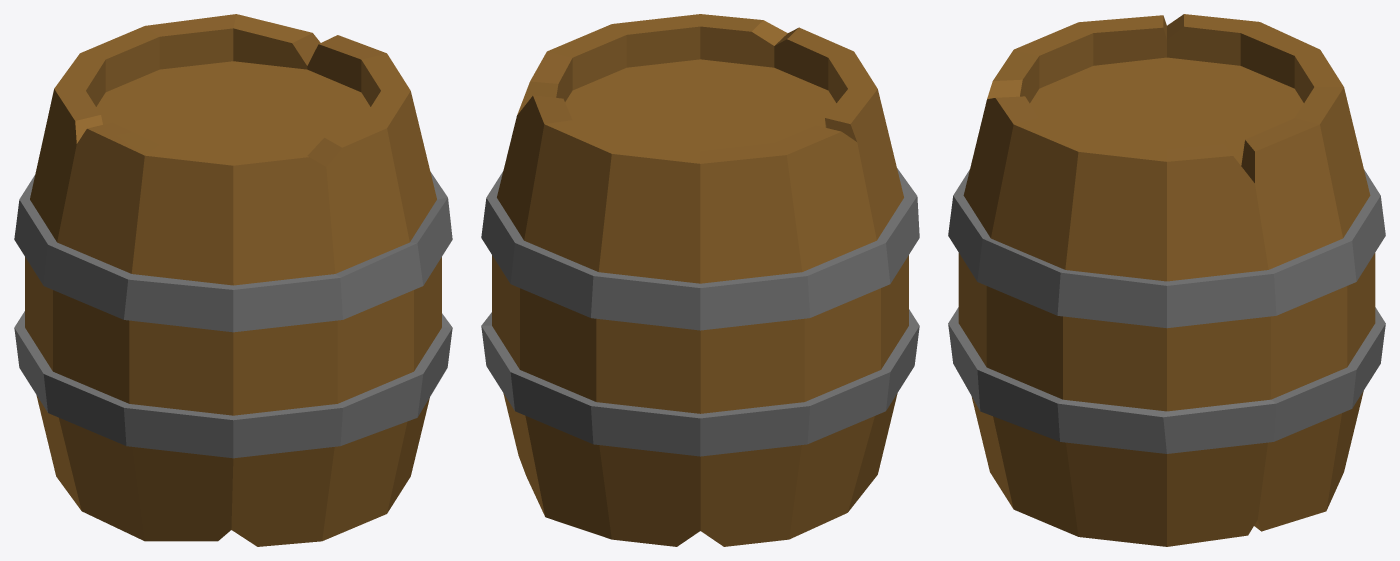
Rendered from barrel12122025.fbx.
3 views of the same model, side by side, from view 1: azimuth 30°, elevation 25°; view 2: azimuth 150°, elevation 25°; view 3: azimuth 270°, elevation 25° (orthographic).
Visible parts, largest first — view 1: barrel.003; view 2: barrel.003; view 3: barrel.003.
Boxes of the visible parts, bbox=[...] form: barrel.003: bbox=[14, 14, 452, 546]; barrel.003: bbox=[481, 14, 919, 546]; barrel.003: bbox=[948, 14, 1385, 546].
Bounding box in the file's own units: 124 × 121 × 124.
